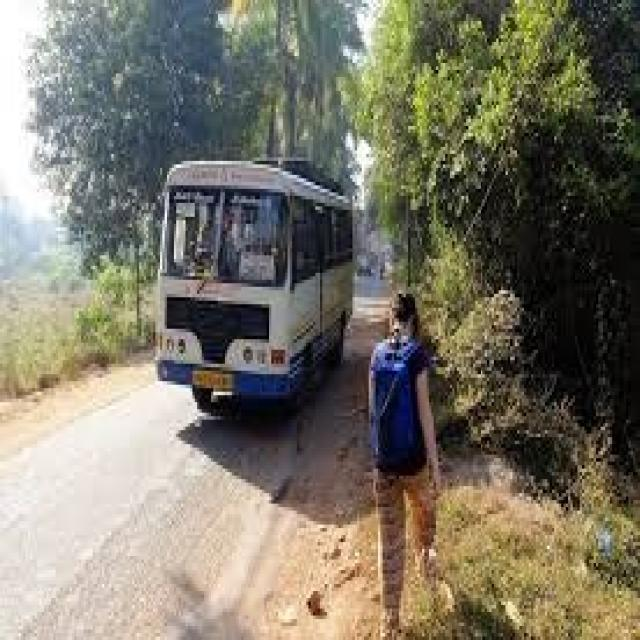bus: (140, 130, 360, 451)
